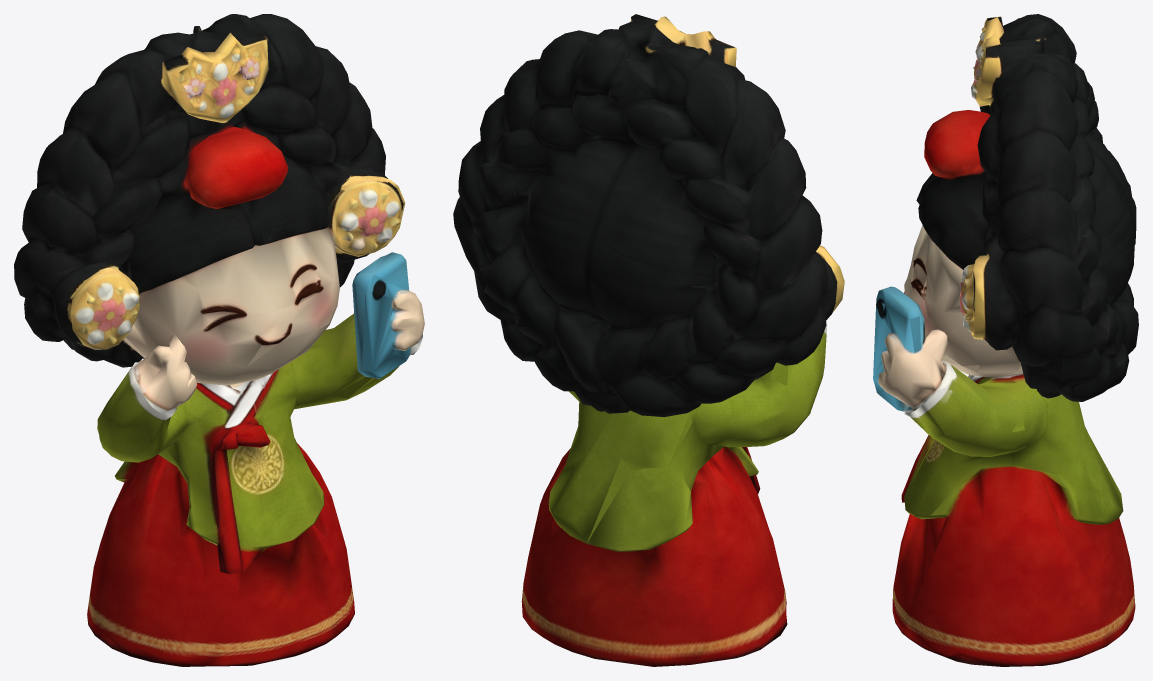
File: jungsun-selca-lowpoly.glb
The picture shows the model from 3 angles, left to right: view 1: azimuth 30°, elevation 25°; view 2: azimuth 150°, elevation 25°; view 3: azimuth 270°, elevation 25°; orthographic projection. The views are drawn at different scales.
Visible parts, largest first — view 1: Mesh_0; view 2: Mesh_0; view 3: Mesh_0.
Part boxes in pixels (x1,y1,x2,y2): Mesh_0: (14, 14, 424, 666); Mesh_0: (453, 14, 844, 666); Mesh_0: (873, 14, 1138, 666).
Size of the model in its own units: 1.09 by 1.7 by 0.7067.
1 material, 1 textured.
